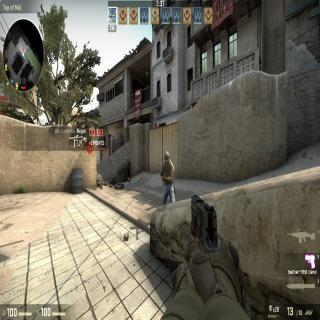T-Body: (161, 150, 175, 206)
T-Head: (163, 150, 170, 164)
